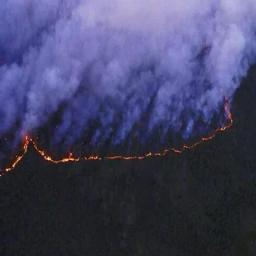Heavy smoke: (0, 0, 255, 159)
Medium fire: (1, 91, 249, 185)
